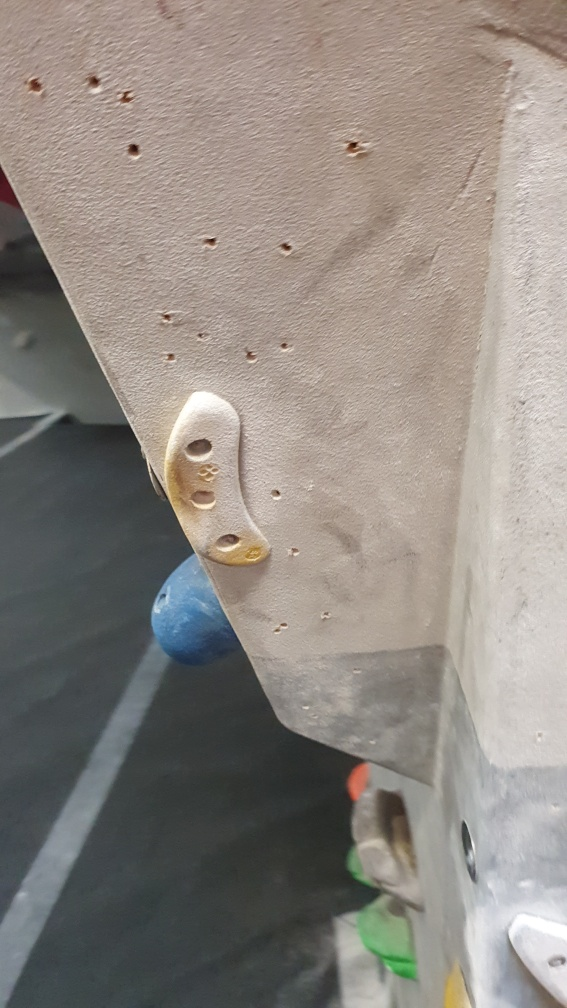Crimp: (158, 391, 275, 577)
Hand Start: (456, 816, 481, 885)
Jug: (350, 786, 427, 909), (351, 884, 423, 984)
